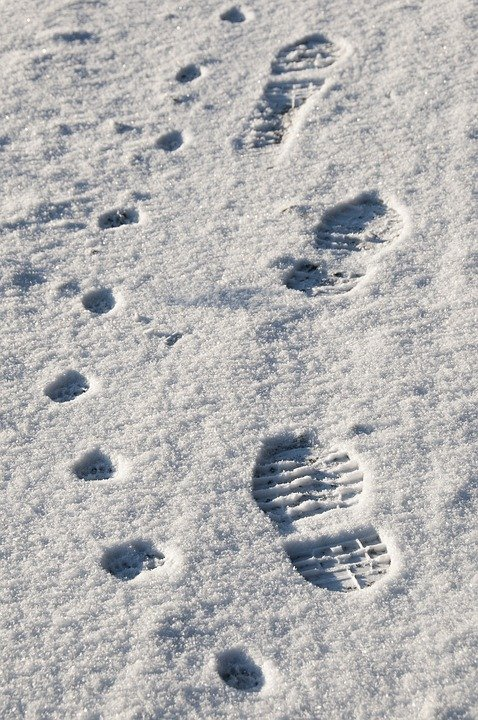human_foot_print: (249, 419, 430, 611), (280, 184, 405, 303), (236, 32, 350, 147), (96, 530, 162, 588), (199, 644, 269, 696), (70, 274, 120, 335), (70, 436, 120, 487), (98, 198, 144, 234), (42, 372, 95, 403), (151, 119, 192, 159), (173, 66, 204, 88)
